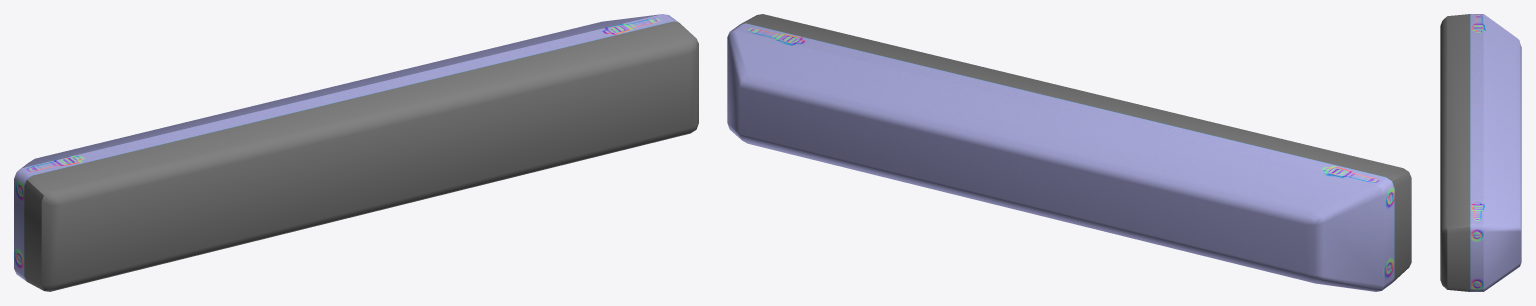
The model's file is LitLampA4.fbx.
3 views of the same model, side by side, from view 1: azimuth 30°, elevation 25°; view 2: azimuth 150°, elevation 25°; view 3: azimuth 270°, elevation 25° (orthographic). The views are drawn at different scales.
Parts seen in each view (by area): view 1: LitLampA4; view 2: LitLampA4; view 3: LitLampA4.
Boxes of the visible parts, left/top/right/bottom form: LitLampA4: left=14, top=14, right=698, bottom=291; LitLampA4: left=727, top=14, right=1411, bottom=291; LitLampA4: left=1440, top=14, right=1521, bottom=291.
Size of the model in its own units: 100 by 15.59 by 16.1.
2 materials, 1 textured.
